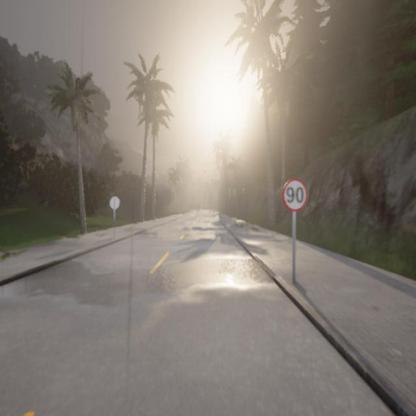traffic_sign_90: (282, 178, 308, 212)
